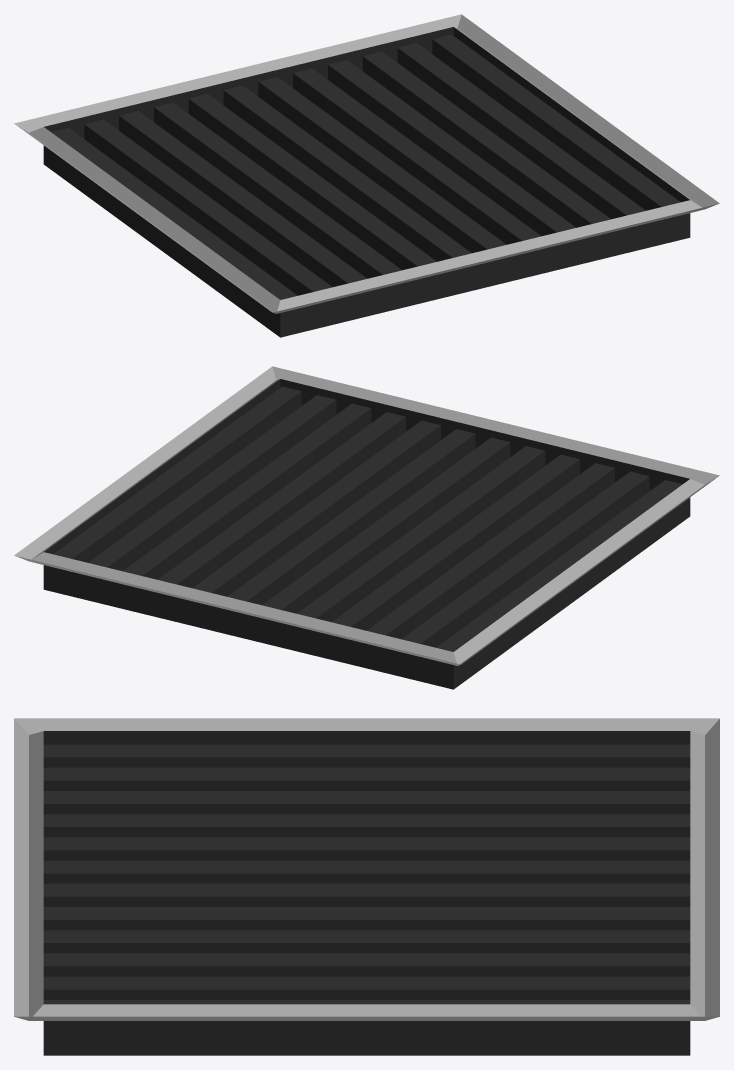
The model's file is grate.glb.
3 renders of one model, top to bottom at view 1: azimuth 30°, elevation 25°; view 2: azimuth 150°, elevation 25°; view 3: azimuth 270°, elevation 25°, orthographic. The views are drawn at different scales.
Parts seen in each view (by area): view 1: Floor Metal Square Grate; view 2: Floor Metal Square Grate; view 3: Floor Metal Square Grate.
Part boxes in pixels (bbox=[...]): Floor Metal Square Grate: bbox=[14, 14, 719, 337]; Floor Metal Square Grate: bbox=[14, 366, 719, 689]; Floor Metal Square Grate: bbox=[14, 718, 719, 1055].
Size of the model in its own units: 2.08 by 0.1672 by 2.08.
Materials: 2 (2 with a texture image).
